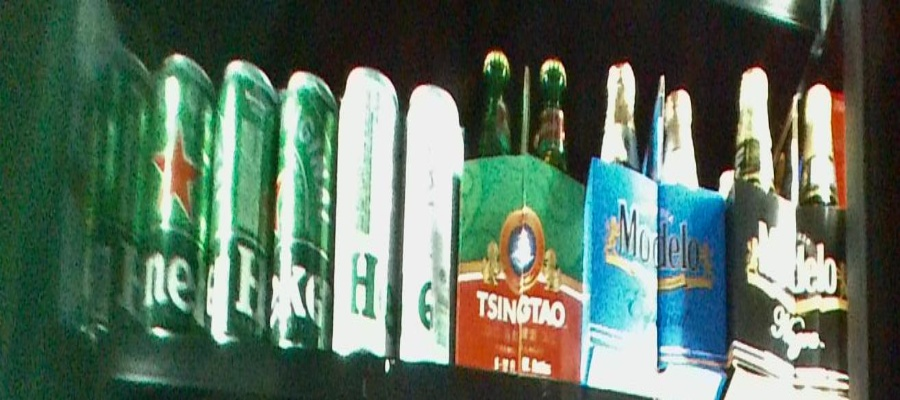bottle: (585, 57, 724, 392), (66, 46, 210, 350), (459, 43, 582, 382), (727, 65, 849, 385), (211, 53, 335, 347), (336, 66, 458, 360)
